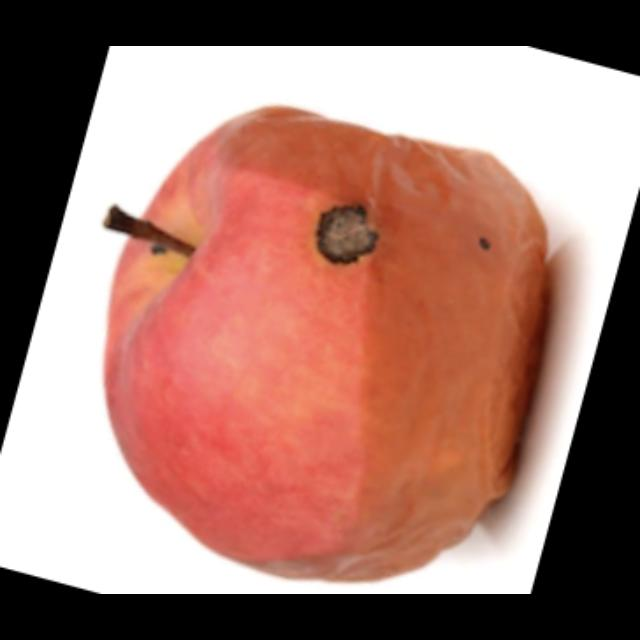Apel Tidak Segar: (98, 96, 556, 590)
